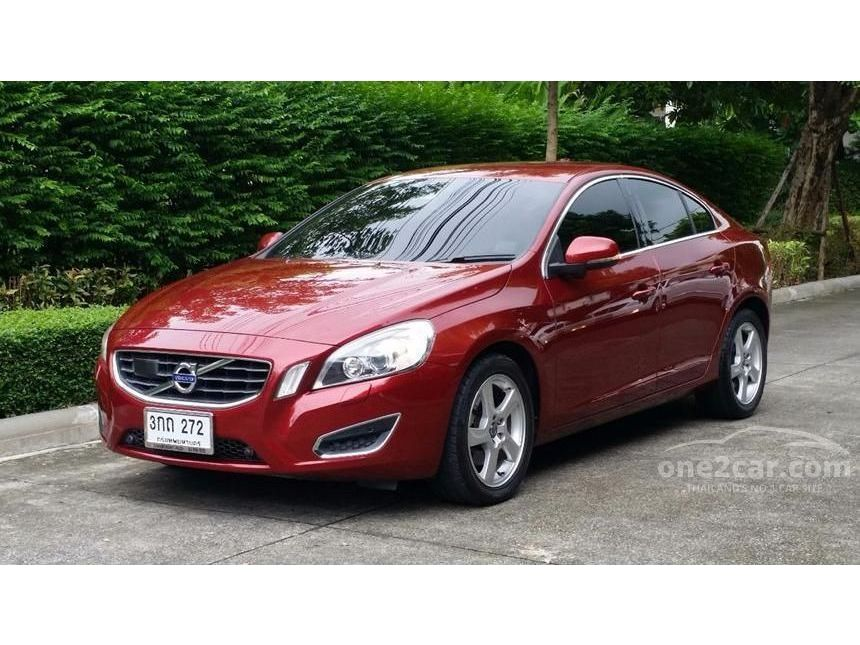sedan: (93, 157, 775, 502)
